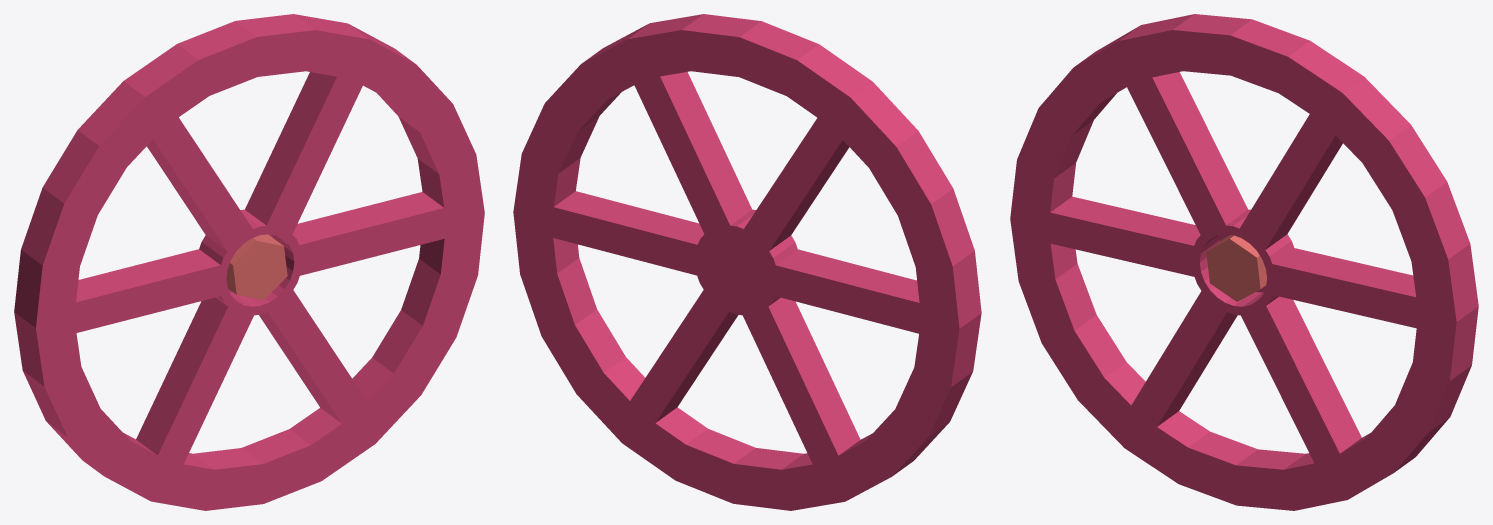
Rendered from R5_valbu_offseted.dae.
3 views of the same model, side by side, from view 1: azimuth 30°, elevation 25°; view 2: azimuth 150°, elevation 25°; view 3: azimuth 330°, elevation 25° (orthographic).
Parts seen in each view (by area): view 1: Group2, Group1; view 2: Group2; view 3: Group2, Group1.
Boxes of the visible parts, x1,y1,x2,y2 form: Group2: (14, 14, 484, 510); Group1: (226, 234, 287, 300); Group2: (513, 14, 981, 510); Group2: (1010, 14, 1478, 510); Group1: (1206, 235, 1266, 301).
Size of the model in its own units: 0.1178 by 0.0106 by 0.1178.
